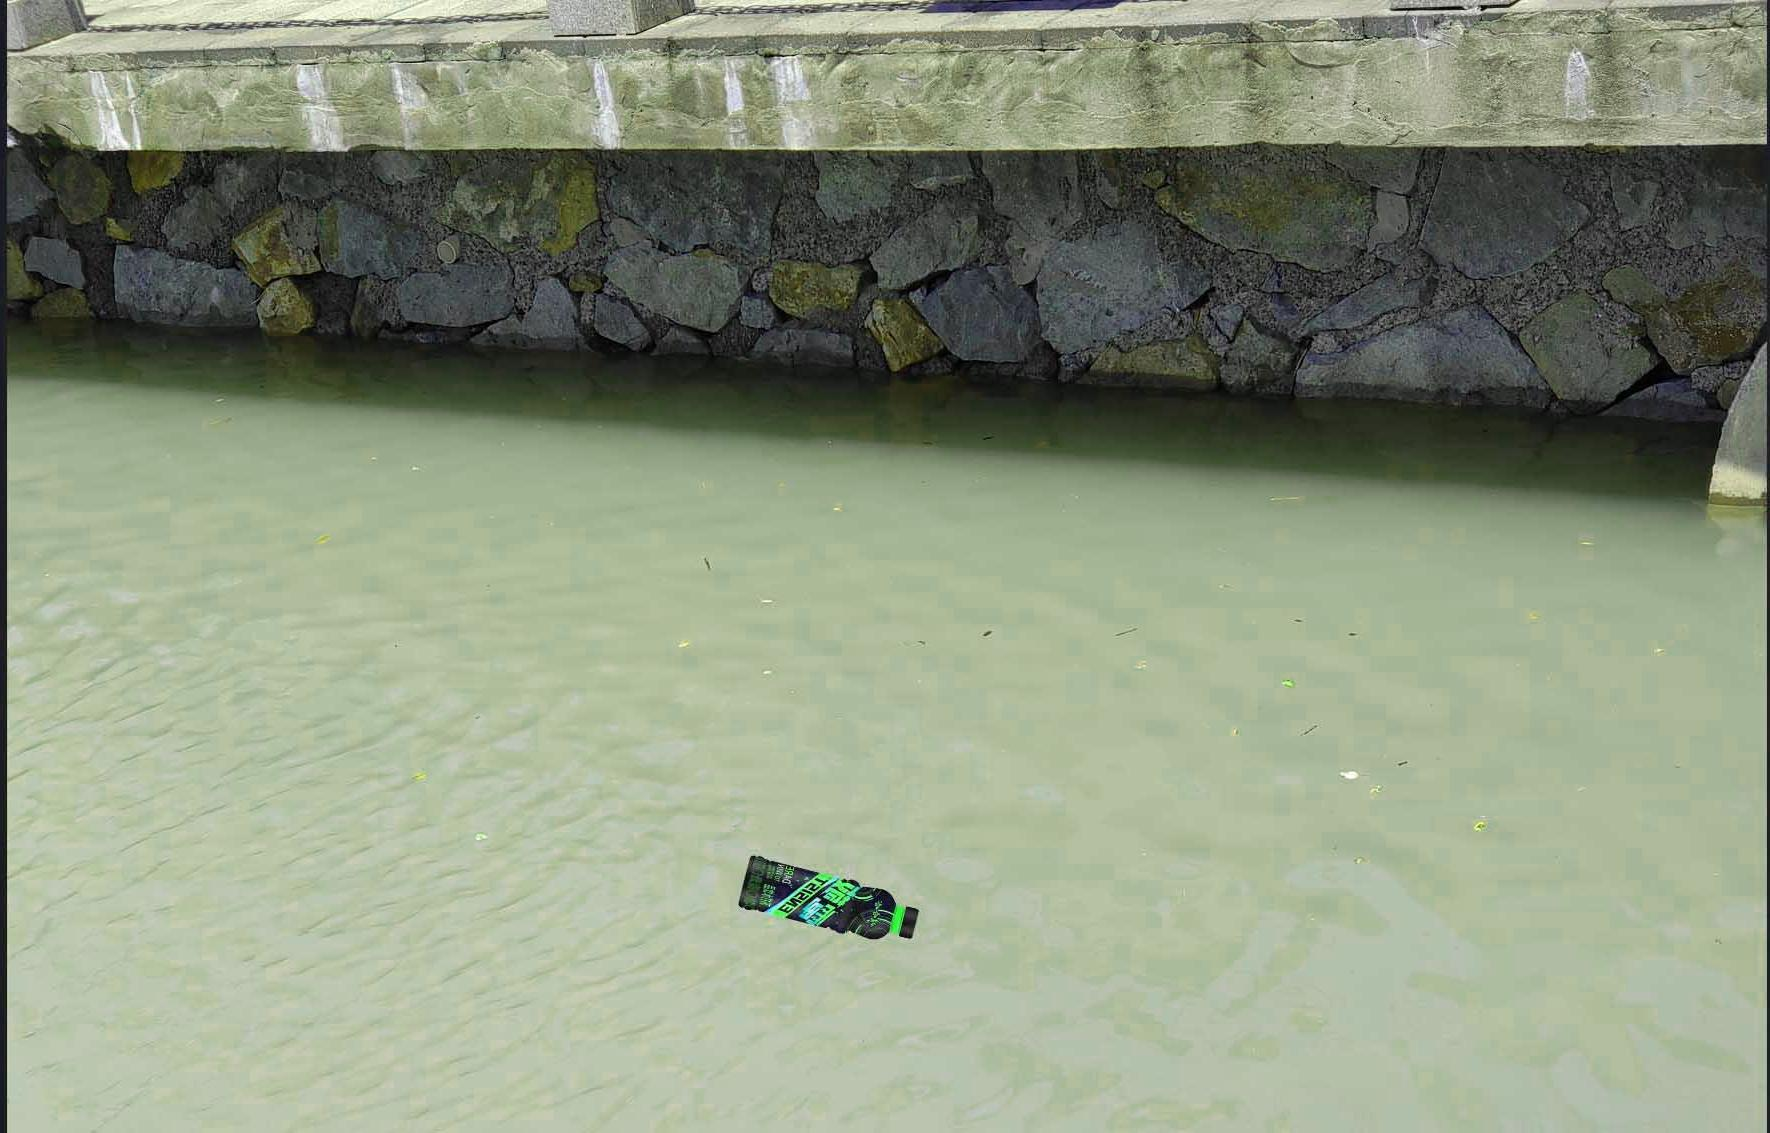Plastic: (729, 857, 925, 941)
